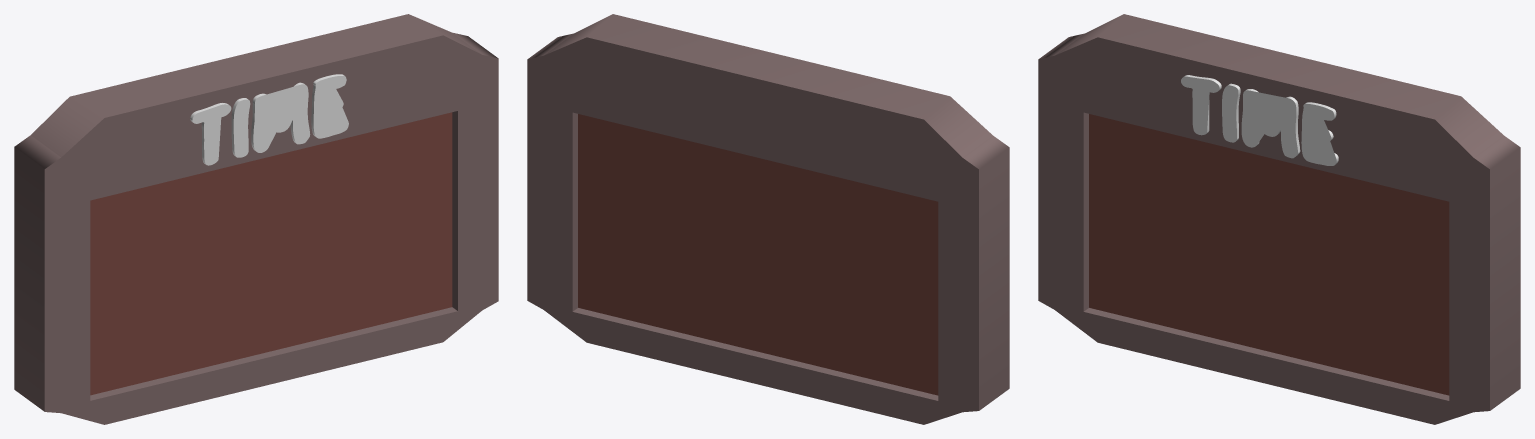
Rendered from time2.fbx.
3 renders of one model, left to right at view 1: azimuth 30°, elevation 25°; view 2: azimuth 150°, elevation 25°; view 3: azimuth 330°, elevation 25°, orthographic.
Visible parts, largest first — view 1: polySurface6; view 2: polySurface6; view 3: polySurface6.
Boxes of the visible parts, x1,y1,x2,y2 form: polySurface6: (14,14,498,424); polySurface6: (527,14,1009,424); polySurface6: (1038,14,1520,424).
Bounding box in the file's own units: 4.78 × 3.09 × 0.5985.
